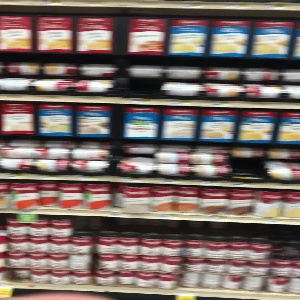void: (117, 61, 162, 98), (227, 146, 267, 182)
